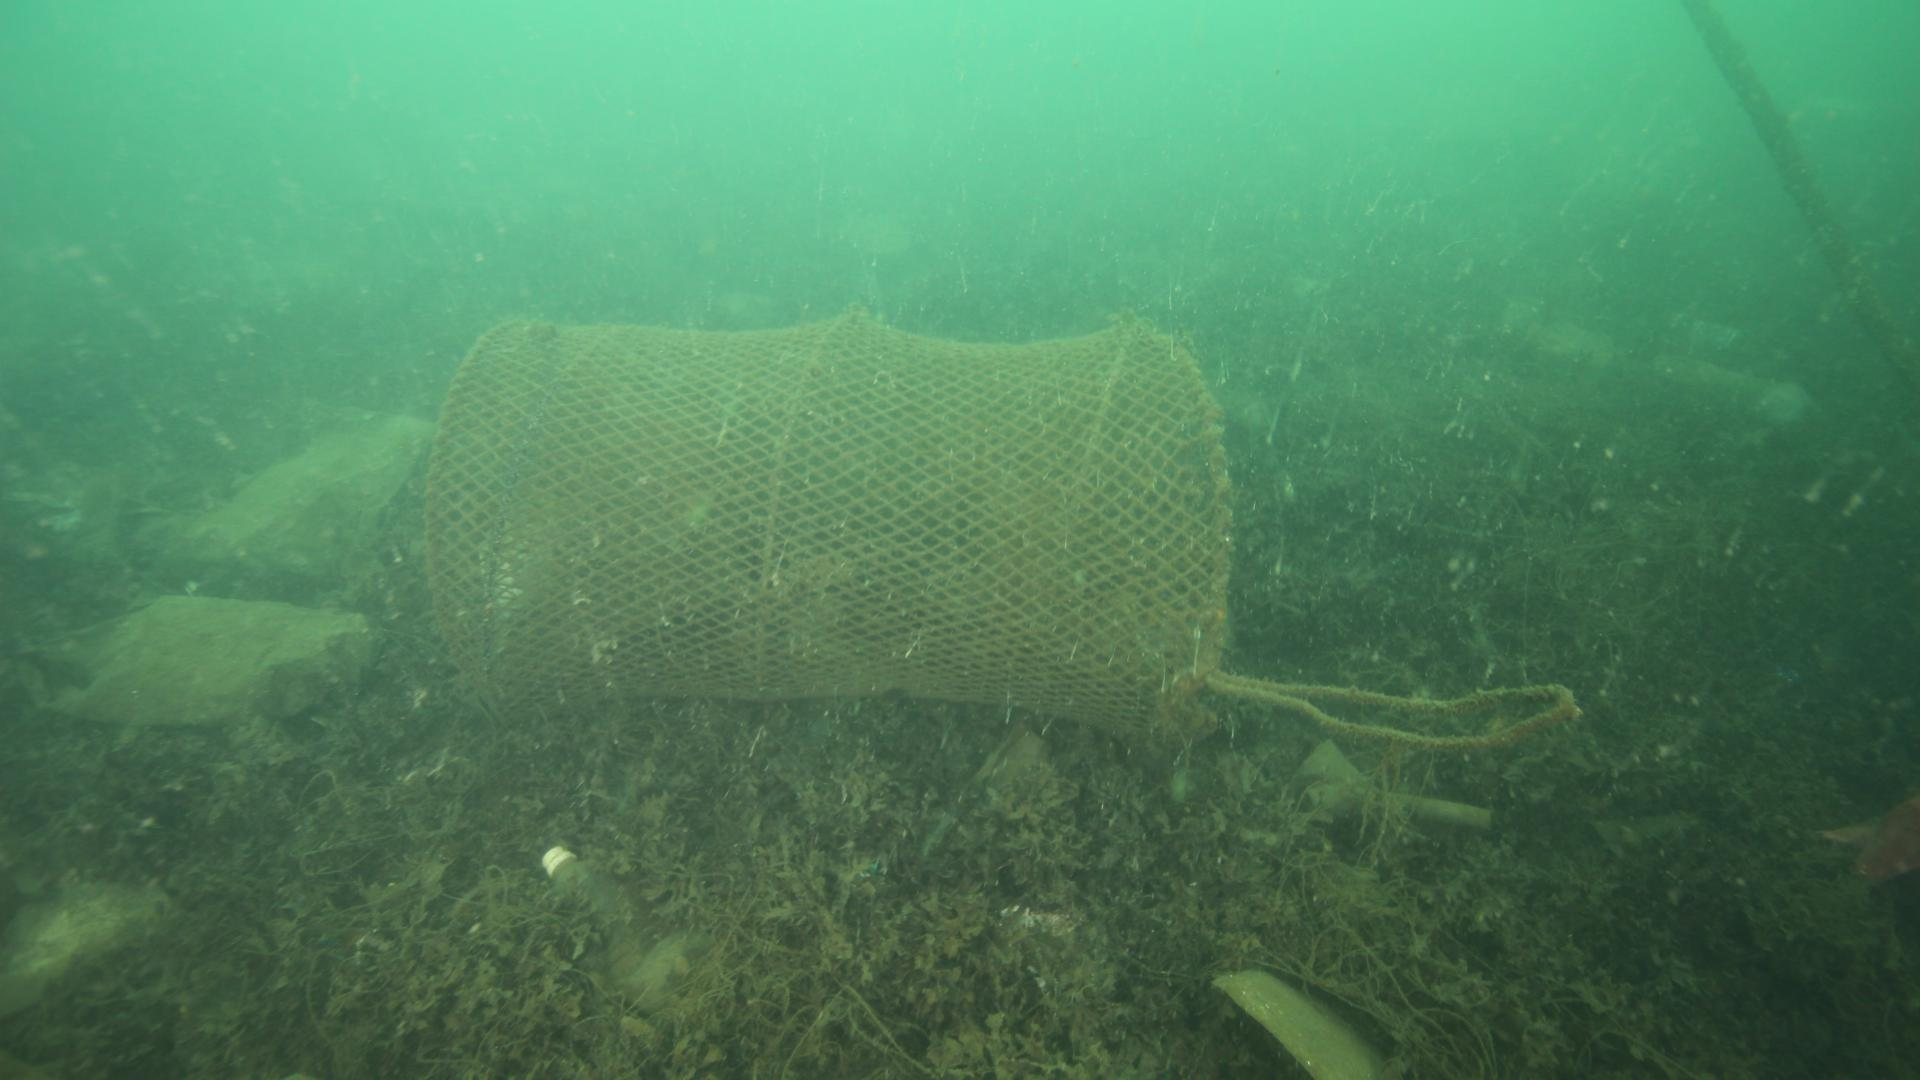bundle of ropes: (1195, 661, 1582, 754)
spring fish trap: (427, 295, 1237, 758)
